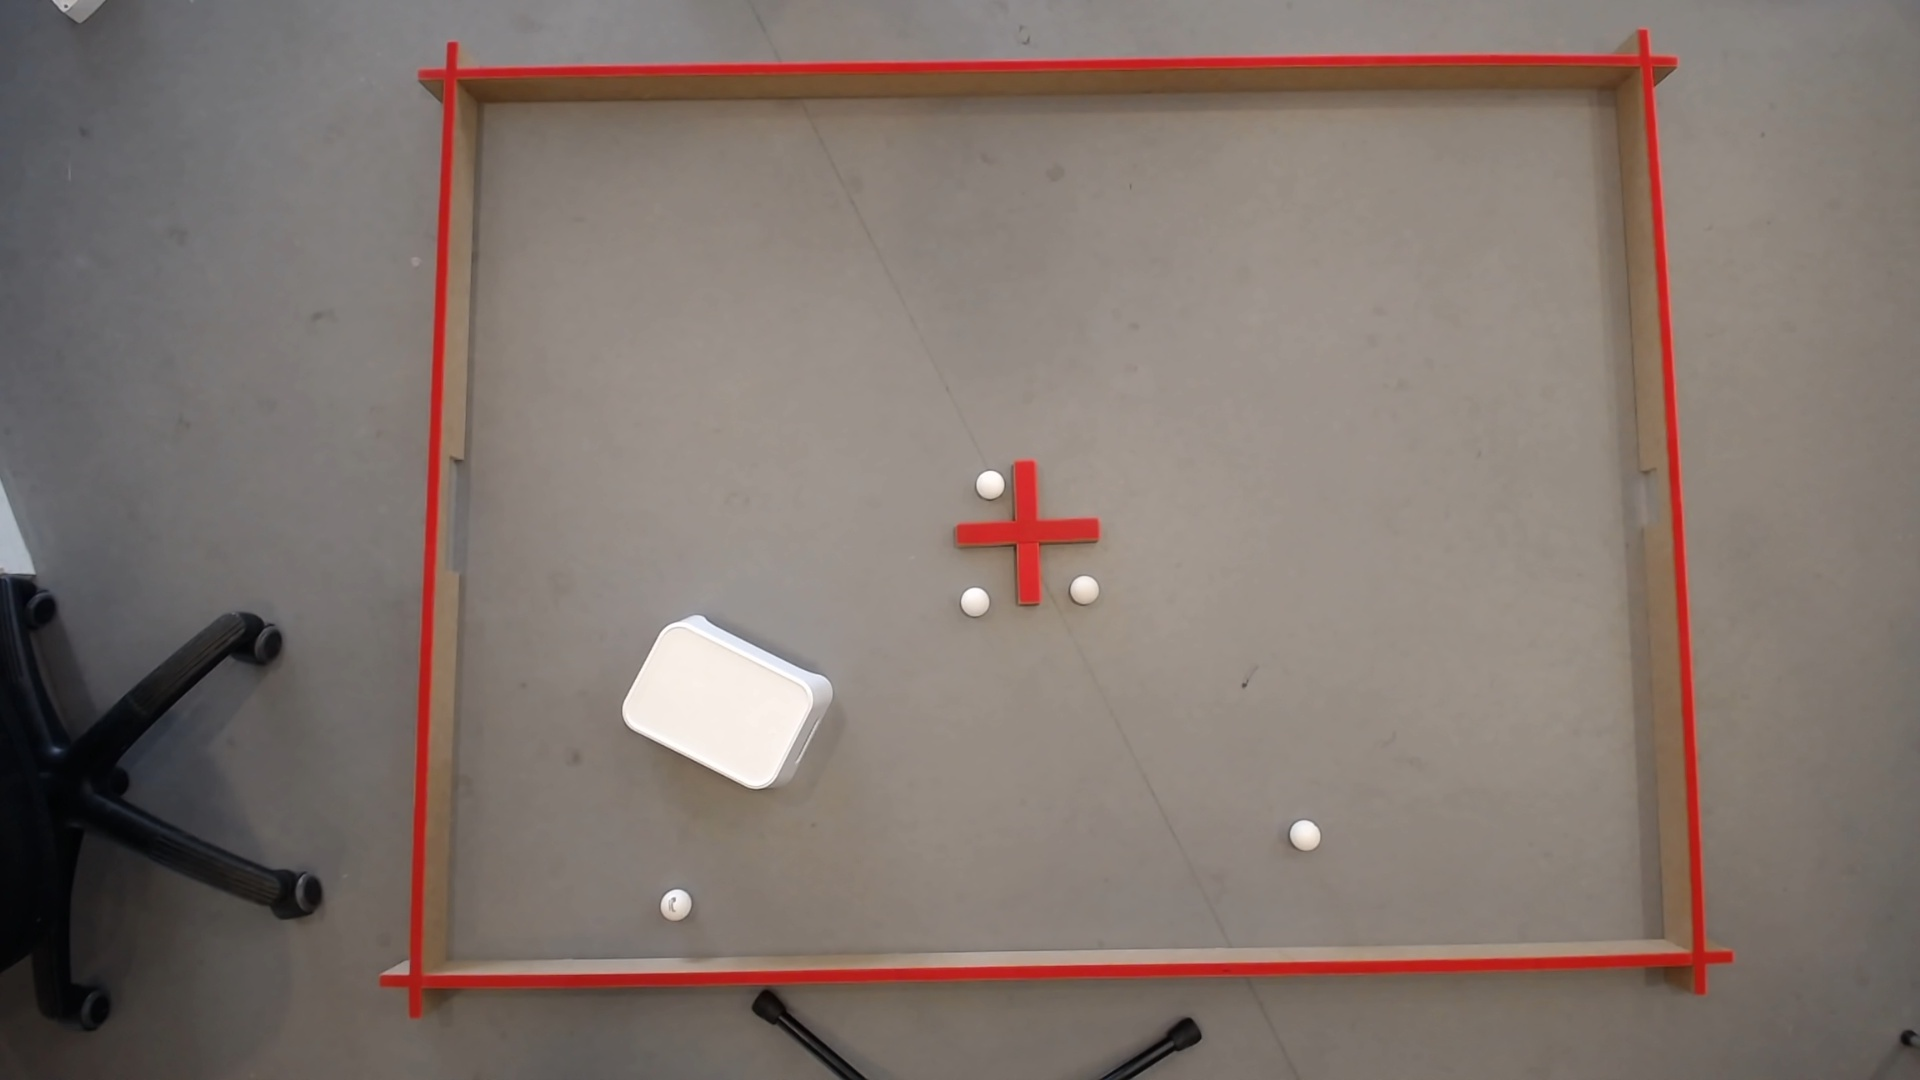balls: (613, 600, 831, 798), (655, 884, 695, 922), (1286, 815, 1324, 851), (972, 464, 1007, 500), (956, 583, 990, 615)
car: (1069, 575, 1097, 599)
